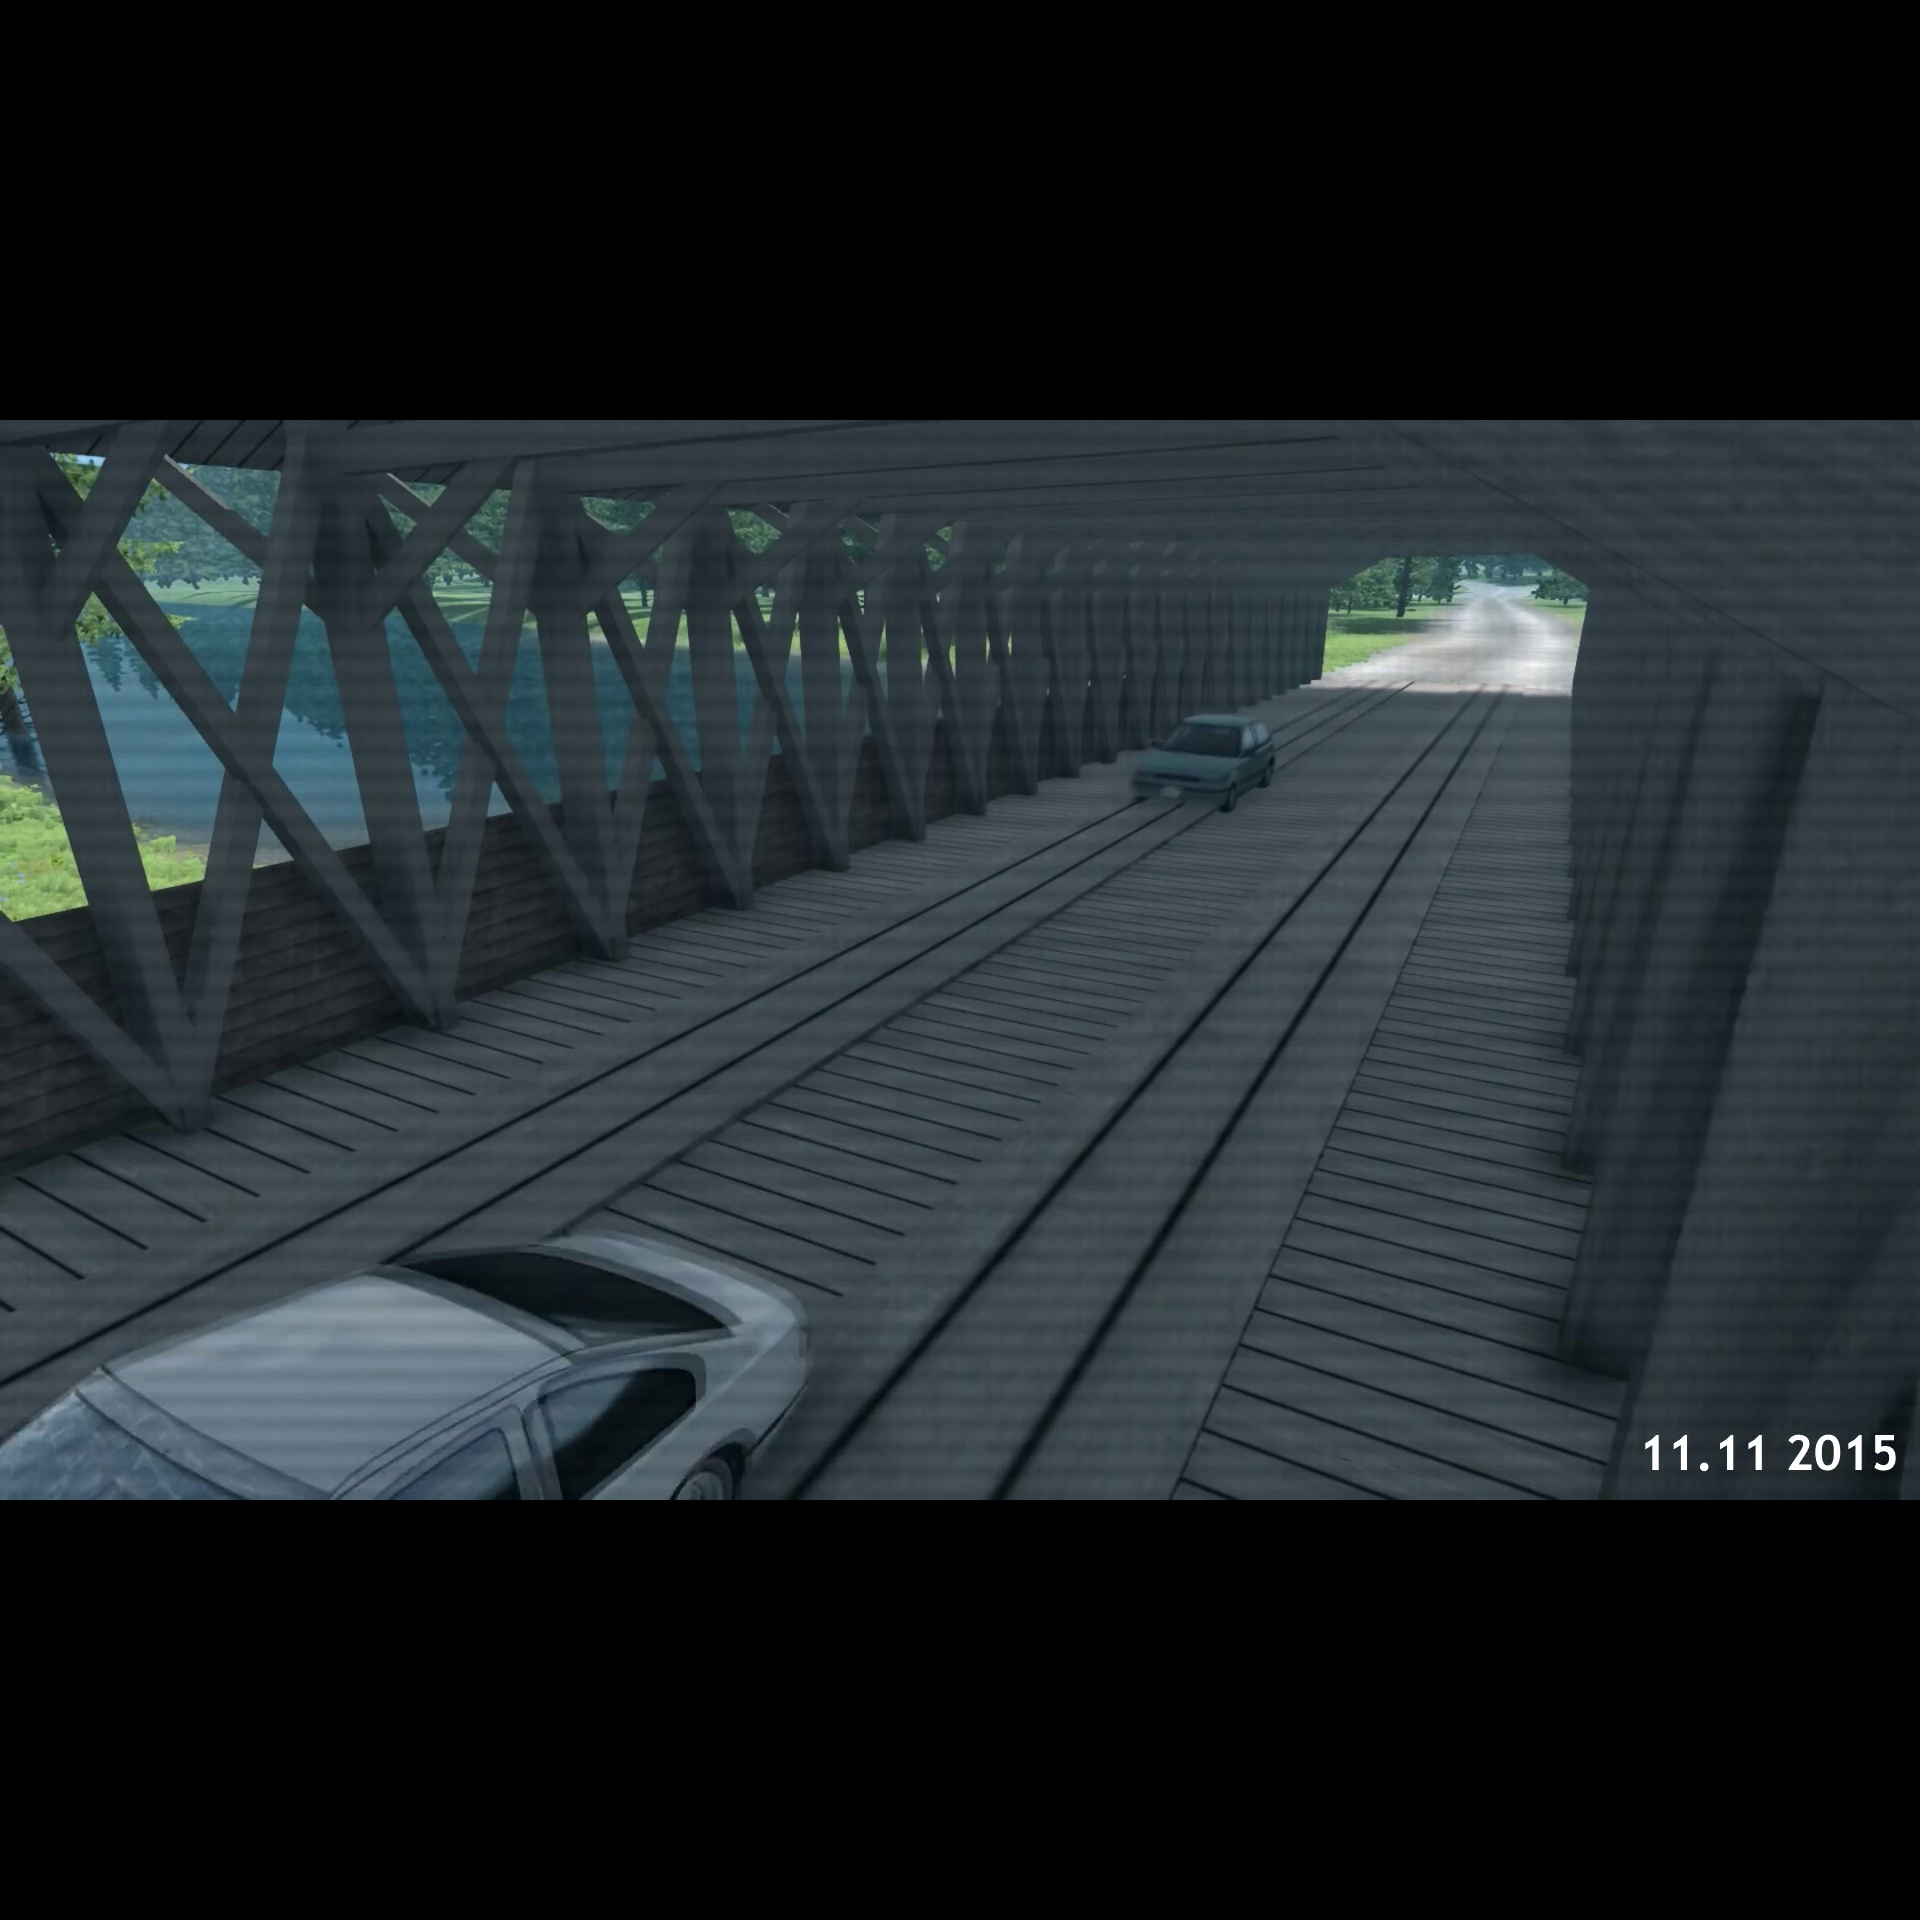vehicle: (2, 1213, 839, 1500), (1129, 707, 1296, 816)
